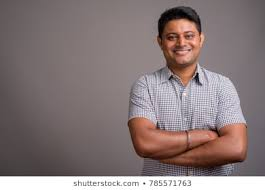Indian_Male: (158, 8, 204, 67)
